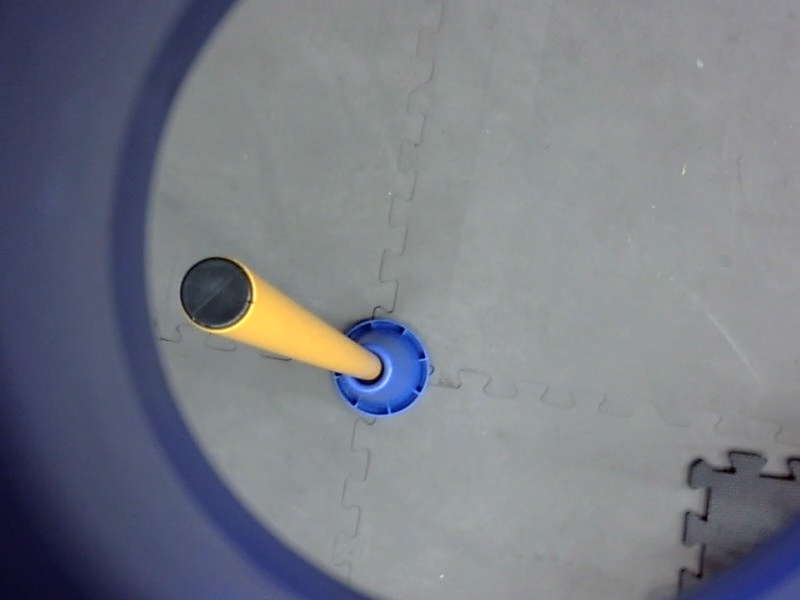tip: (173, 248, 259, 336)
